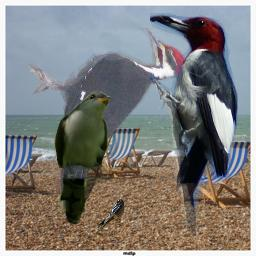Cuckoo: (54, 91, 111, 224)
Swallow: (97, 199, 124, 234)
Woodpecker: (28, 28, 190, 216), (150, 13, 238, 236)
